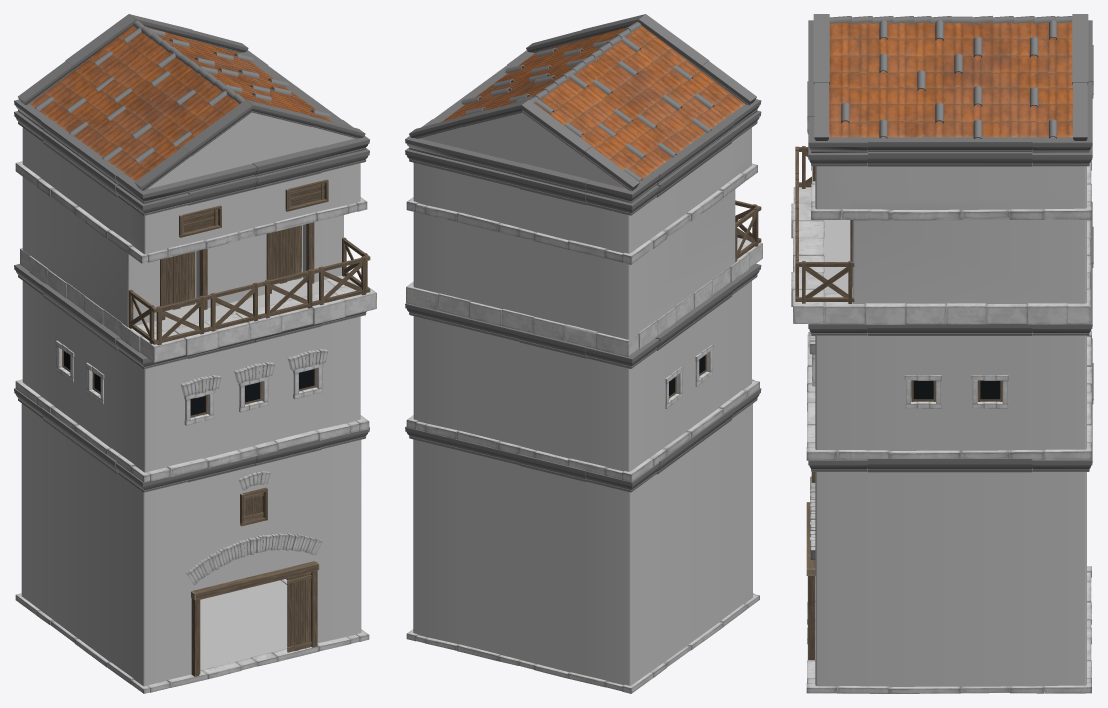
The model's file is SM_insulae_building_02.fbx.
The picture shows the model from 3 angles, left to right: view 1: azimuth 30°, elevation 25°; view 2: azimuth 150°, elevation 25°; view 3: azimuth 270°, elevation 25°; orthographic projection. The views are drawn at different scales.
Parts seen in each view (by area): view 1: Box283; view 2: Box283; view 3: Box283.
Boxes of the visible parts, x1,y1,x2,y2 form: Box283: (14, 14, 376, 693); Box283: (405, 14, 762, 693); Box283: (791, 14, 1093, 693).
Bounding box in the file's own units: 309 × 721 × 319.
